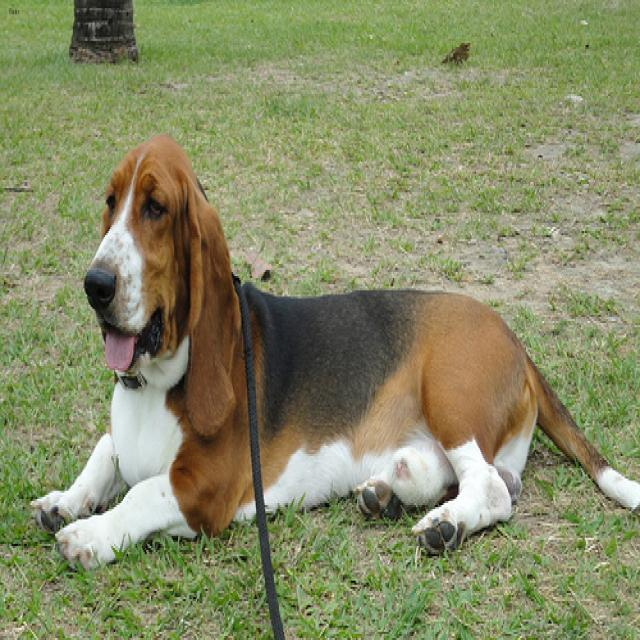dog-basset_hound: (22, 121, 637, 577)
